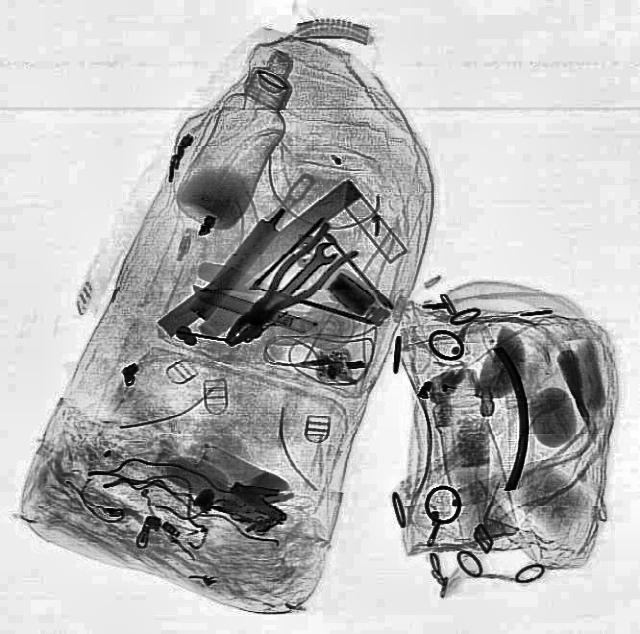Pliers: (208, 220, 358, 360)
Wrench: (251, 237, 339, 319)
